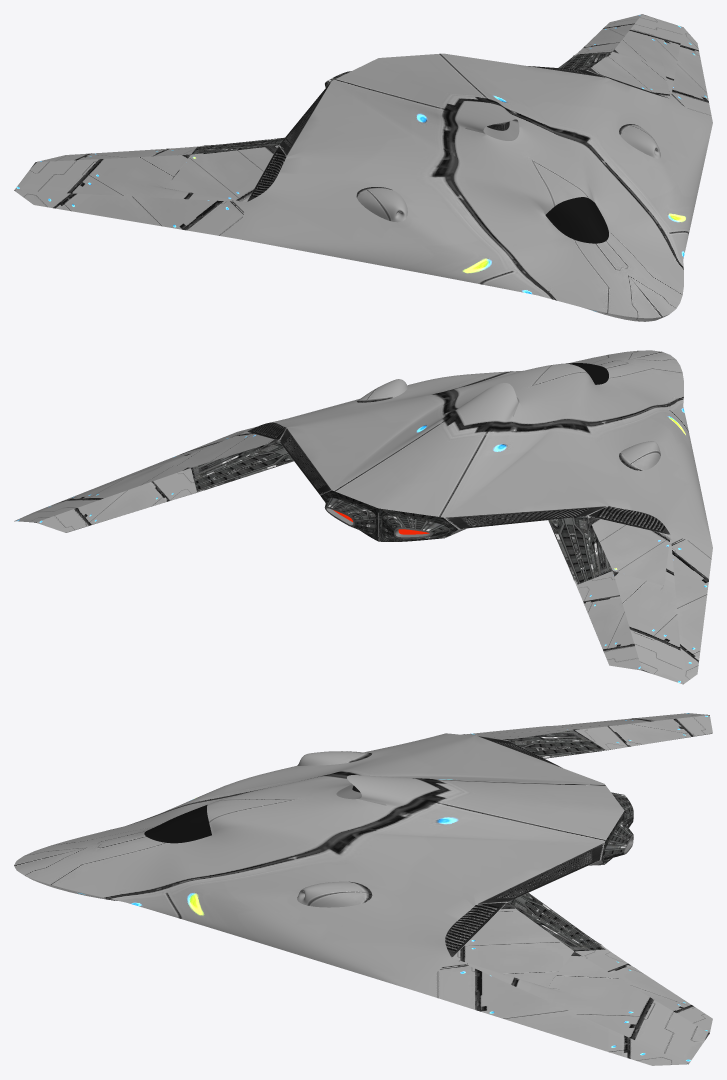
The picture shows the model from 3 angles, top to bottom: view 1: azimuth 30°, elevation 25°; view 2: azimuth 150°, elevation 25°; view 3: azimuth 270°, elevation 25°; orthographic projection. The views are drawn at different scales.
Visible parts, largest first — view 1: surfer_0, surfer.002_1, surfer.003_2; view 2: surfer_0, surfer.002_1, surfer.003_2; view 3: surfer_0, surfer.003_2, surfer.002_1.
Boxes of the visible parts, x1,y1,x2,y2 form: surfer_0: (14,14,712,321); surfer.002_1: (165,145,277,201); surfer.003_2: (588,52,670,98); surfer_0: (14,350,712,684); surfer.002_1: (588,516,670,585); surfer.003_2: (166,432,277,467); surfer_0: (14,713,712,1065); surfer.003_2: (452,902,572,987); surfer.002_1: (462,726,571,739).
Bounding box in the file's own units: 6.89 × 1.1 × 5.8.
Materials: 6 (3 with a texture image).
